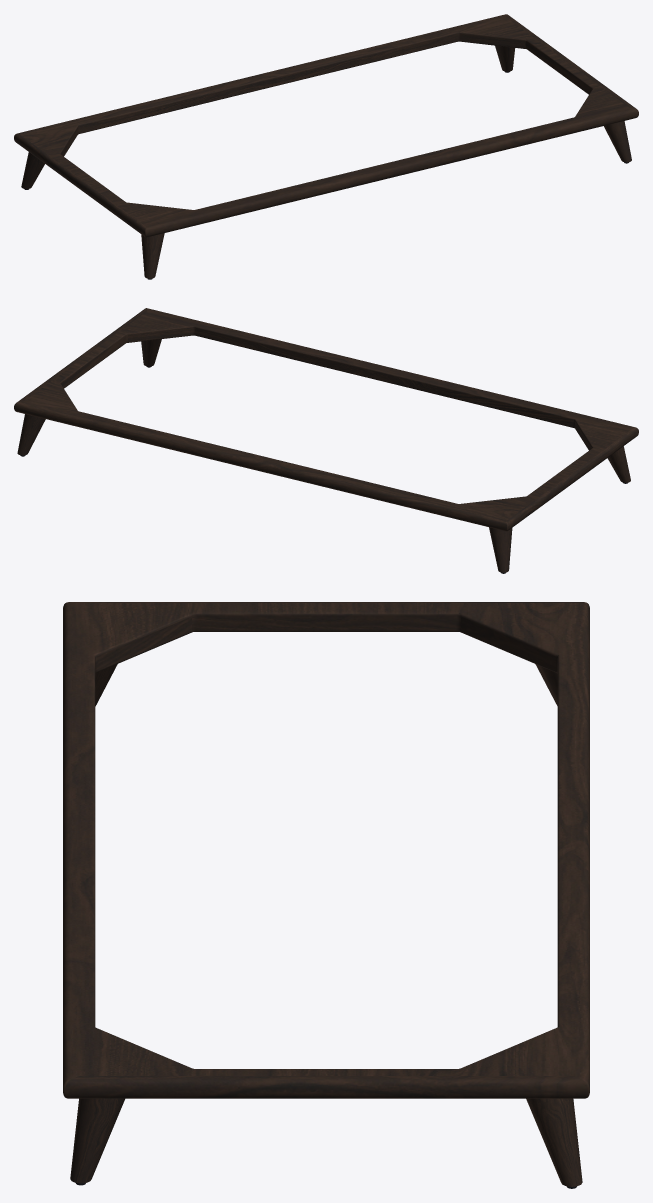
Rendered from Sofa_Legs_Round.glb.
3 renders of one model, top to bottom at view 1: azimuth 30°, elevation 25°; view 2: azimuth 150°, elevation 25°; view 3: azimuth 270°, elevation 25°, orthographic. The views are drawn at different scales.
Visible parts, largest first — view 1: Sofa_Legs_Round; view 2: Sofa_Legs_Round; view 3: Sofa_Legs_Round.
Boxes of the visible parts, x1,y1,x2,y2 form: Sofa_Legs_Round: (14,14,638,279); Sofa_Legs_Round: (14,308,638,573); Sofa_Legs_Round: (63,602,589,1188).
Size of the model in its own units: 299 by 31.78 by 138.
Materials: 2 (1 with a texture image).
